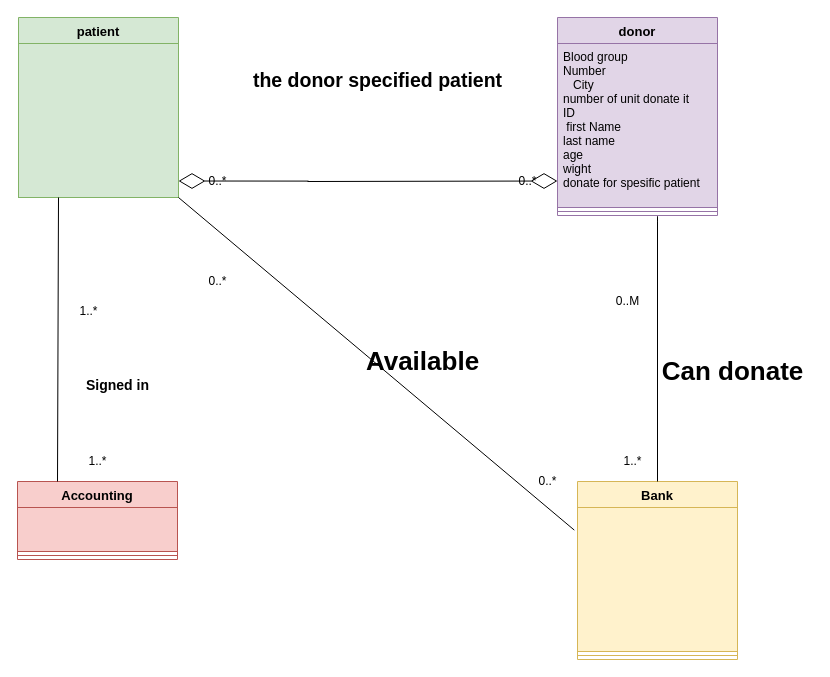
This 830x677 diagram has some shape labels left out. Here are the shapes that lost their labels. From the top down, the centre of each, then its label:
[98,120]: Age First Name ID phone Blood group number of unit last name
[97,529]: total price patient id
[657,579]: blood group number of unit
